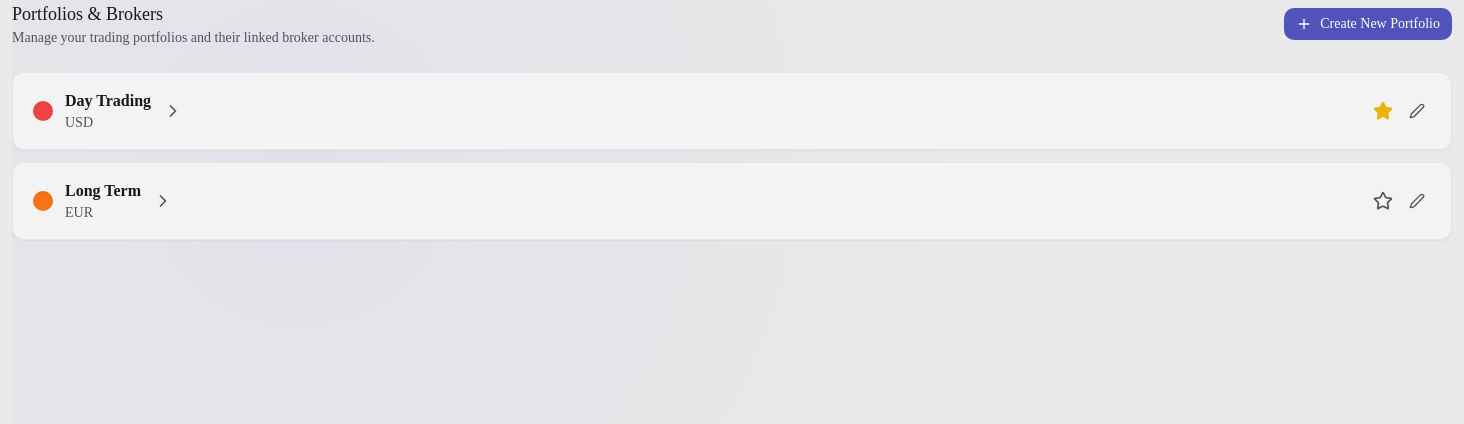
Test: PortfoliosBrokersHub › shows account rows with name and type badge when expanded
The width and height of the screenshot is (1464, 424).
Click the button "Day Trading USD": x=108, y=100 [33,89,1359,133]
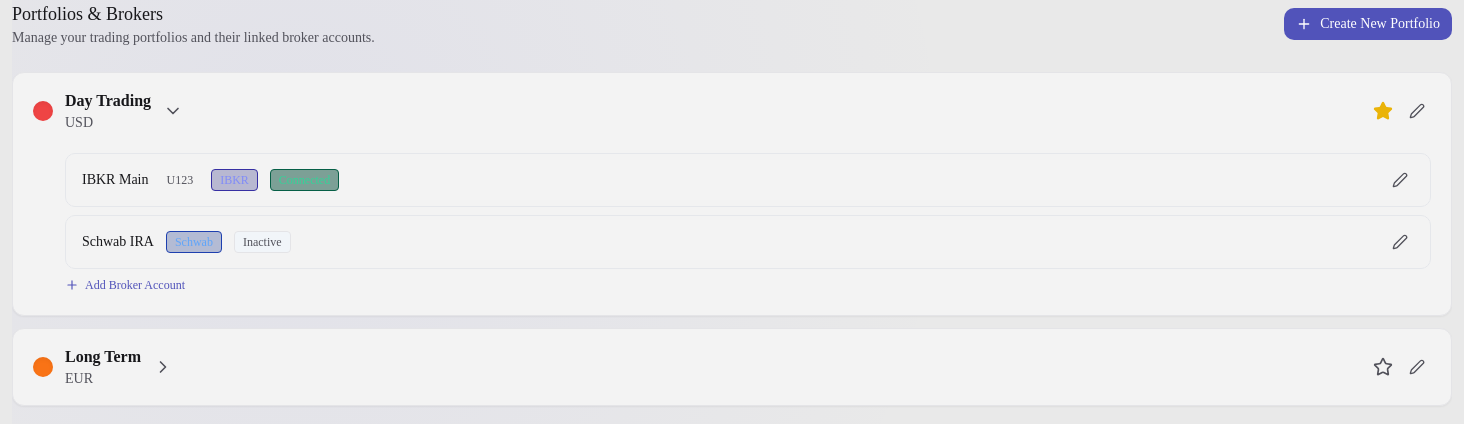
expect the text "IBKR Main" is shown: met, box [82,170,148,190]
expect the text "Schwab IRA" is shown: met, box [82,232,154,252]
expect the text "IBKR" is shown: met, box [211,169,258,191]
